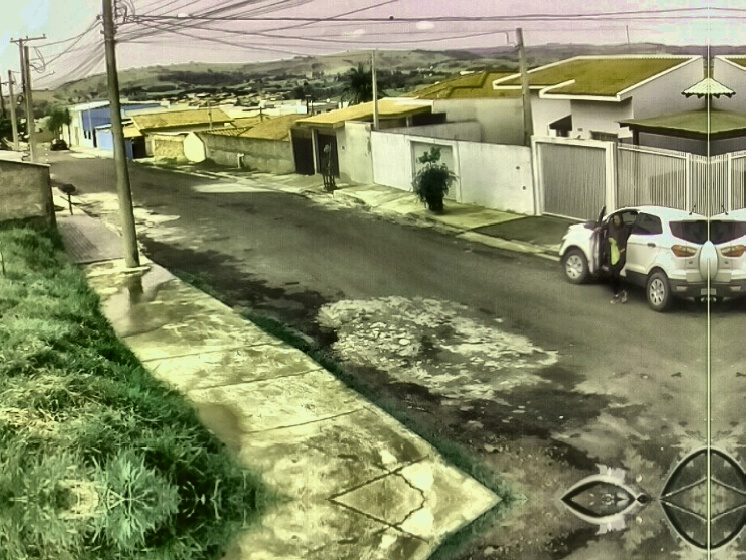person: (594, 211, 630, 304)
